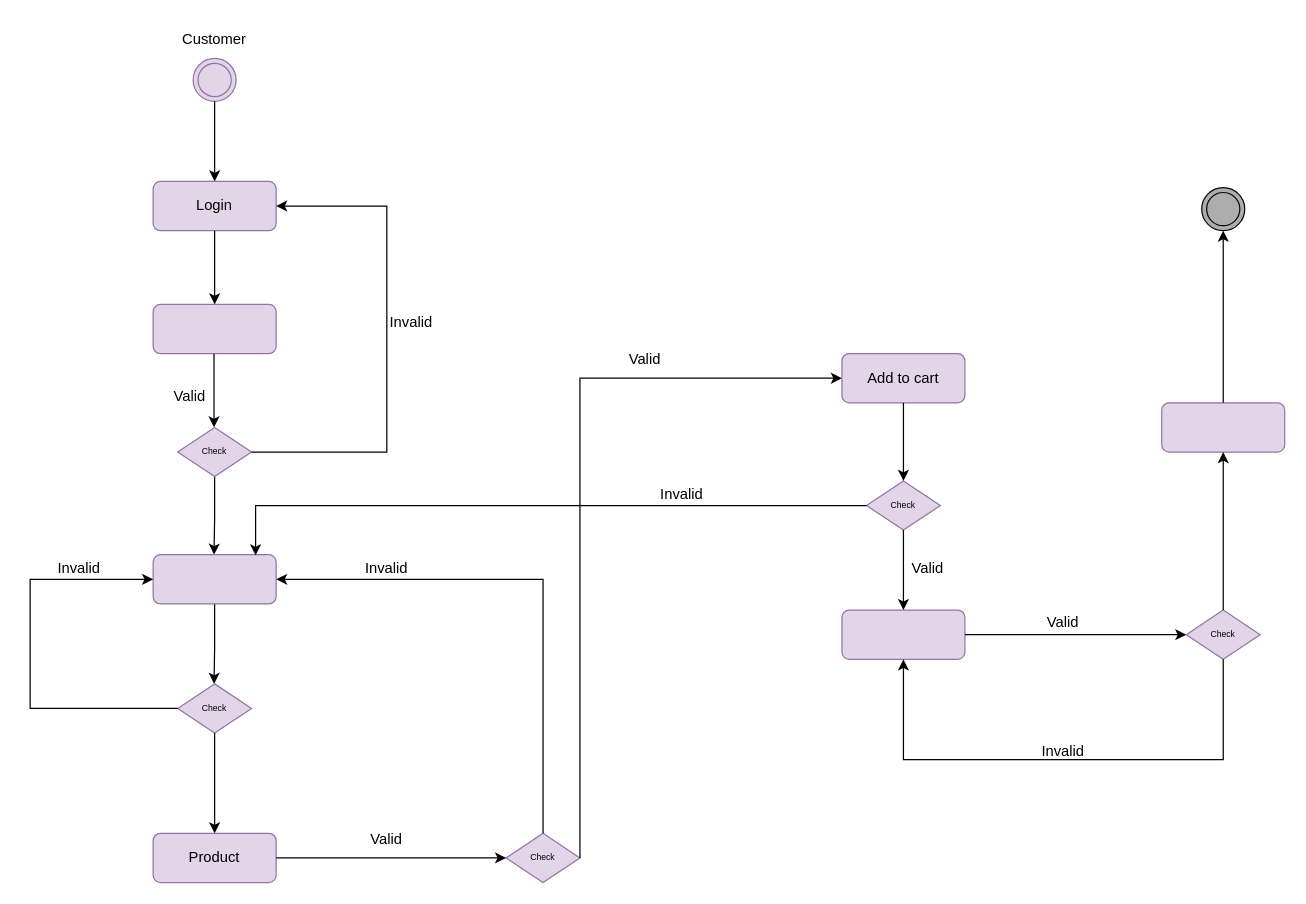
The diagram is 1306 pixels wide and 904 high, and some of its shapes have lost their labels. The centre of each missing label's shape, as x and y in pixels:
"Authentication" goes at point 214,328.
"Cart" goes at point 903,634.
"Pay now" goes at point 1223,427.
"Search" goes at point 214,579.
